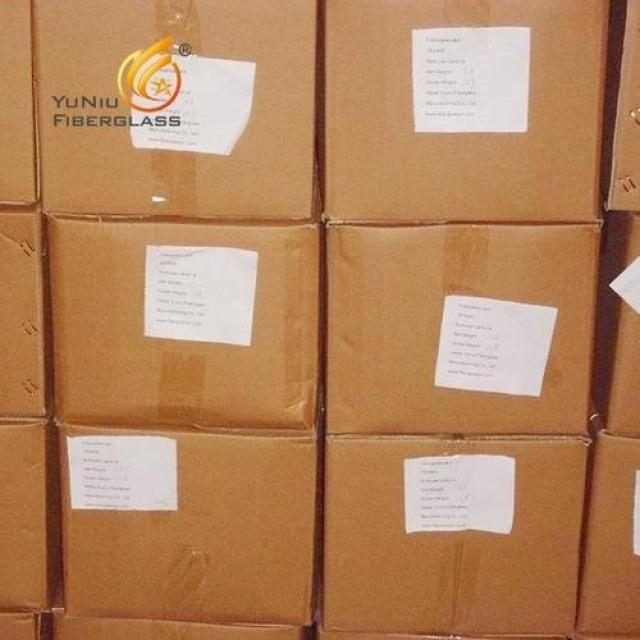box: (31, 0, 316, 219), (47, 211, 319, 435), (325, 220, 602, 435), (324, 434, 589, 636), (58, 421, 316, 625), (576, 398, 639, 640), (49, 584, 303, 640), (0, 201, 58, 417), (0, 417, 60, 613), (0, 1, 41, 206), (608, 0, 640, 211), (604, 269, 640, 439), (315, 626, 575, 640), (0, 609, 44, 640)
